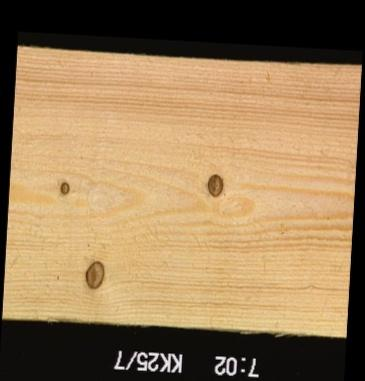dry_knot: (82, 259, 105, 291), (204, 171, 224, 198), (57, 180, 70, 196)
